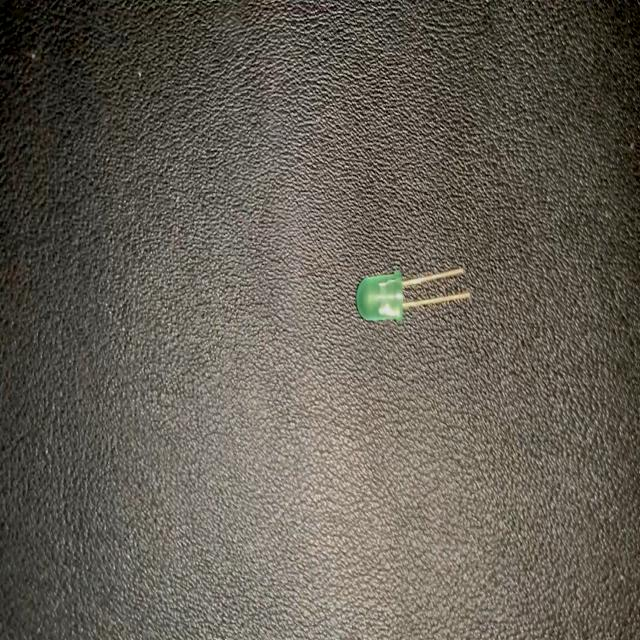LED: (353, 264, 473, 326)
